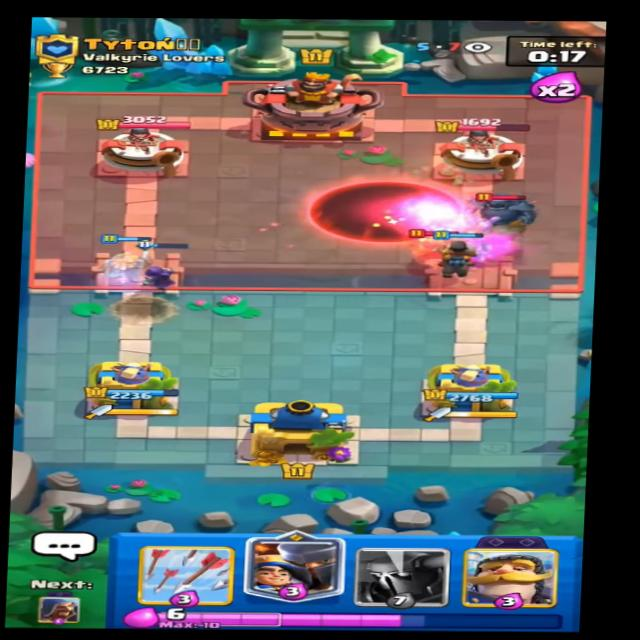knight: (399, 221, 466, 268)
pekka: (460, 187, 550, 232)
